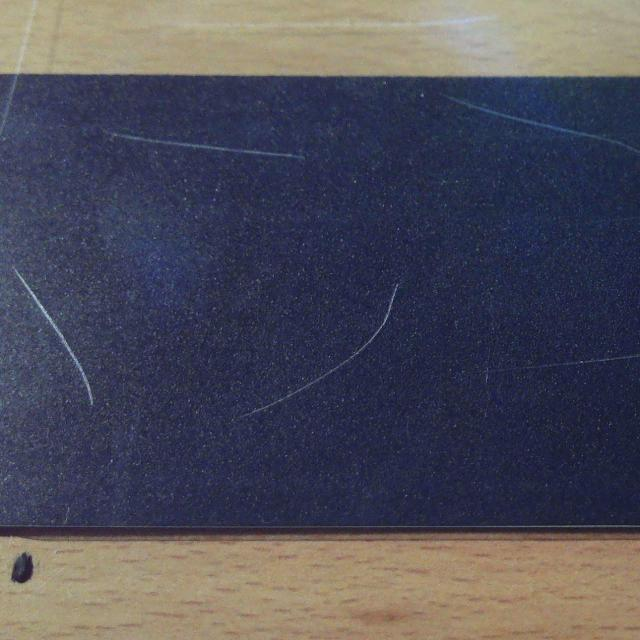defect: (241, 284, 399, 419), (443, 92, 640, 160), (14, 266, 97, 410), (105, 125, 305, 168), (498, 344, 640, 372), (0, 75, 19, 138)
